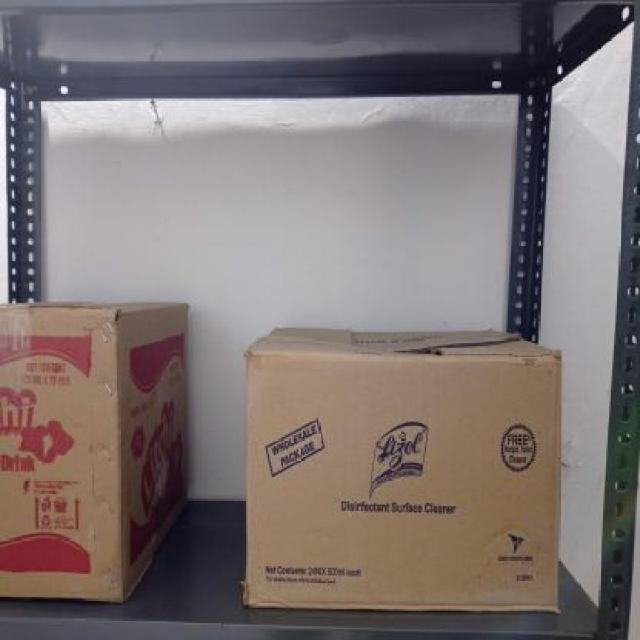box: (245, 352, 559, 611), (0, 307, 117, 598)
